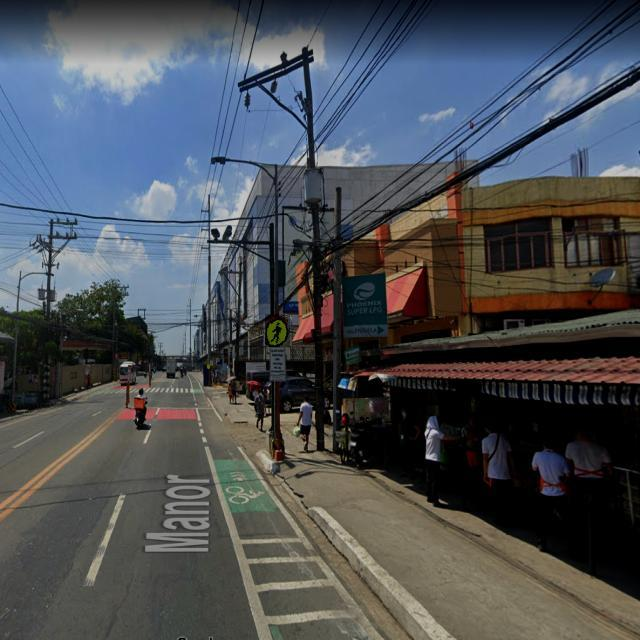pedestrian crossing: (265, 314, 290, 347)
